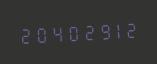four: (47, 21, 61, 44)
nine: (92, 19, 106, 42)
one: (107, 18, 121, 41)
two: (17, 23, 31, 46), (77, 20, 91, 43), (122, 17, 136, 40)
zero: (62, 20, 76, 44), (32, 22, 46, 45)
